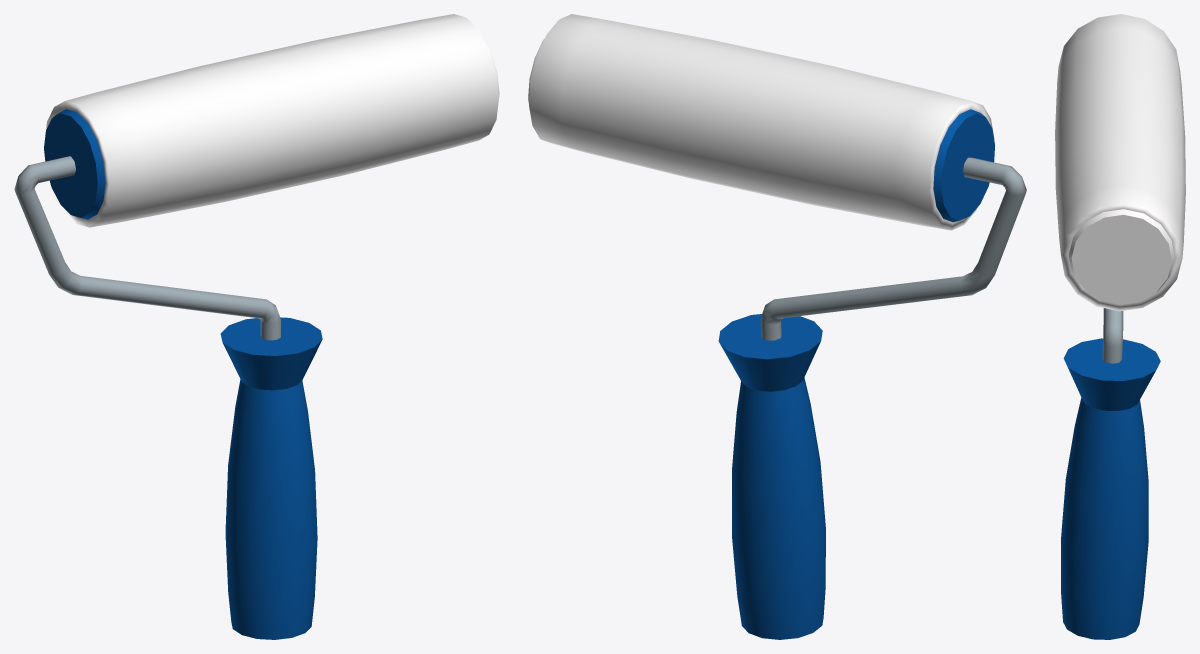
File: Roller.fbx
The picture shows the model from 3 angles, left to right: view 1: azimuth 30°, elevation 25°; view 2: azimuth 150°, elevation 25°; view 3: azimuth 270°, elevation 25°; orthographic projection. The views are drawn at different scales.
Visible parts, largest first — view 1: Roller; view 2: Roller; view 3: Roller.
Boxes of the visible parts, left/top/right/bottom form: Roller: left=14, top=14, right=499, bottom=639; Roller: left=528, top=14, right=1026, bottom=639; Roller: left=1055, top=14, right=1185, bottom=639.
Bounding box in the file's own units: 40.64 × 10.62 × 47.21.
